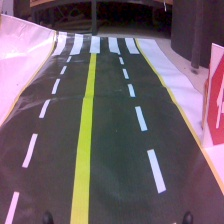stop: (202, 39, 224, 151)
